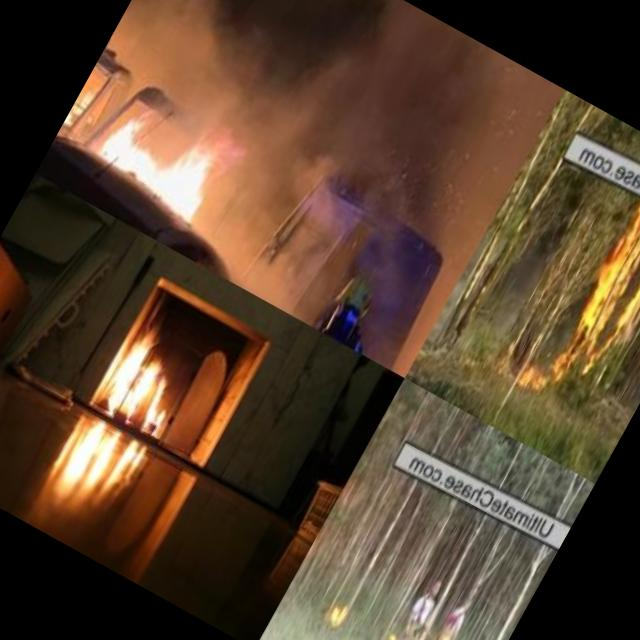fire: (80, 92, 228, 220), (84, 308, 210, 450), (564, 199, 640, 366), (516, 338, 574, 402), (62, 74, 106, 134), (324, 599, 353, 631), (378, 627, 405, 640)
smoke: (255, 0, 565, 267), (75, 0, 318, 188)
